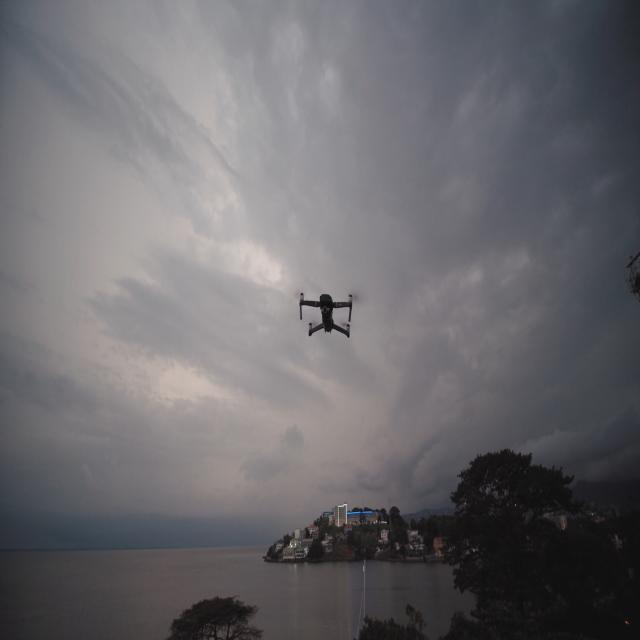drone: (298, 292, 352, 340)
